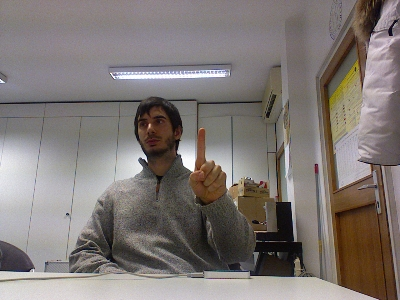食指: (188, 126, 226, 201)
